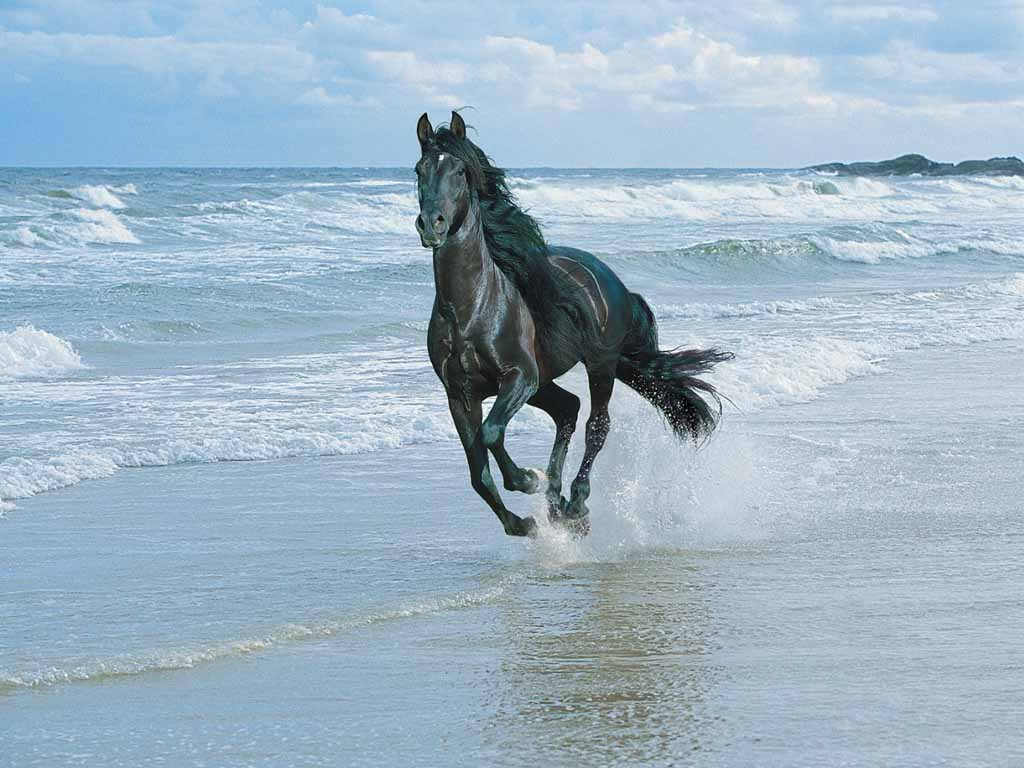Horse: (399, 106, 719, 547)
